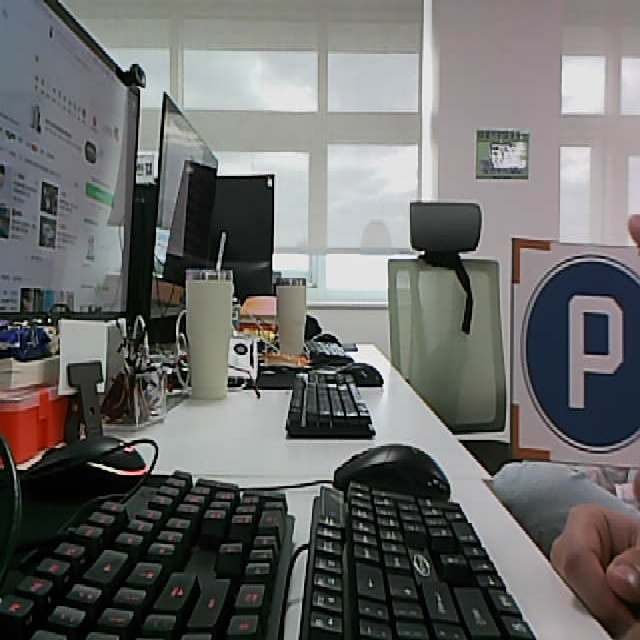parking: (510, 236, 640, 466)
